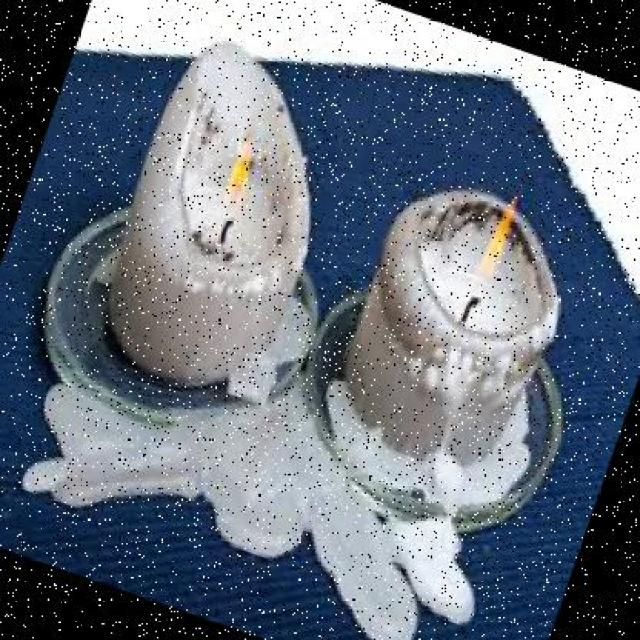fire: (466, 183, 536, 288), (210, 128, 276, 229)
